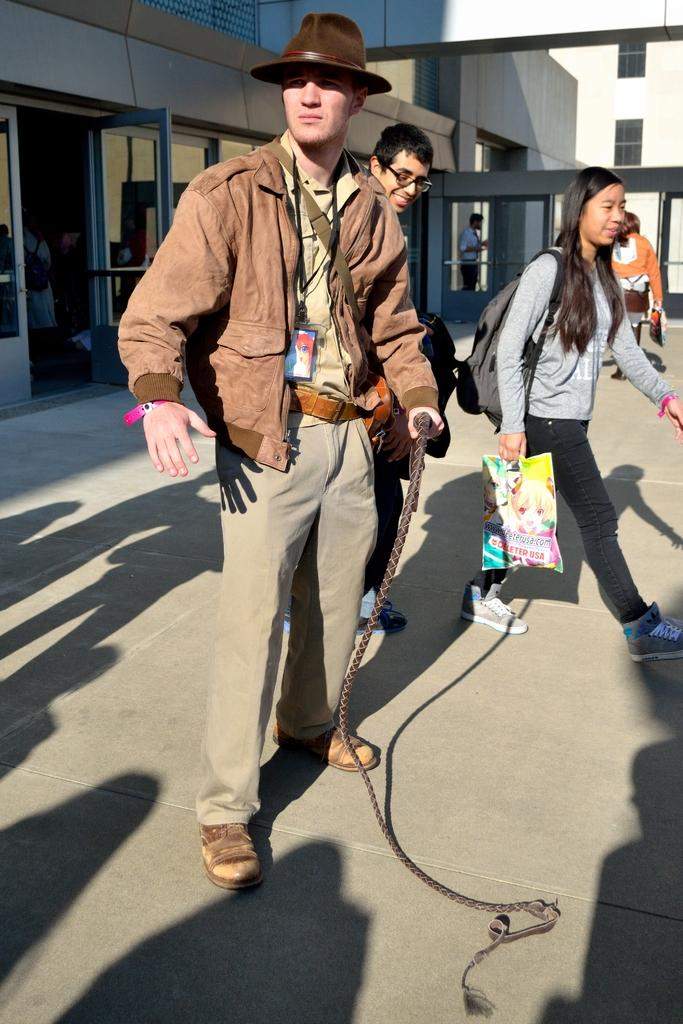Hat: (253, 16, 389, 94)
